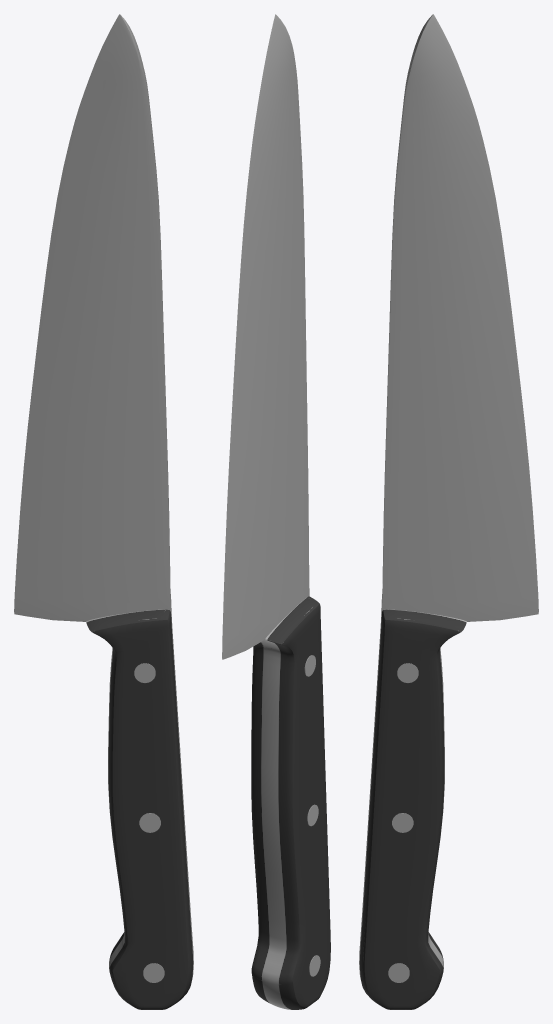
File: knife.fbx
3 renders of one model, left to right at view 1: azimuth 90°, elevation 25°; view 2: azimuth 150°, elevation 25°; view 3: azimuth 270°, elevation 25°, orthographic.
Visible parts, largest first — view 1: Plane; view 2: Plane; view 3: Plane.
Boxes of the visible parts, x1,y1,x2,y2 form: Plane: (14,14,193,1009); Plane: (222,14,330,1009); Plane: (359,14,538,1009).
Size of the model in its own units: 22.57 by 484 by 79.57.
Materials: 1 (1 with a texture image).
